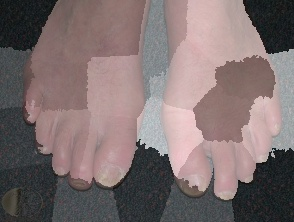Nail_psoriasis: (174, 164, 213, 202), (95, 160, 127, 191), (35, 140, 53, 158), (70, 175, 90, 191), (53, 165, 70, 177), (21, 110, 35, 123), (217, 191, 235, 201), (242, 176, 254, 185), (257, 155, 270, 163), (273, 122, 283, 132)
